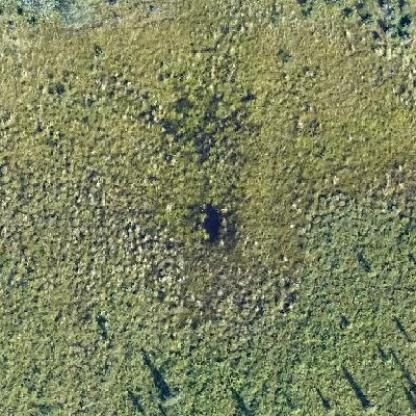tree-top: (158, 387, 179, 407), (362, 398, 377, 411)
